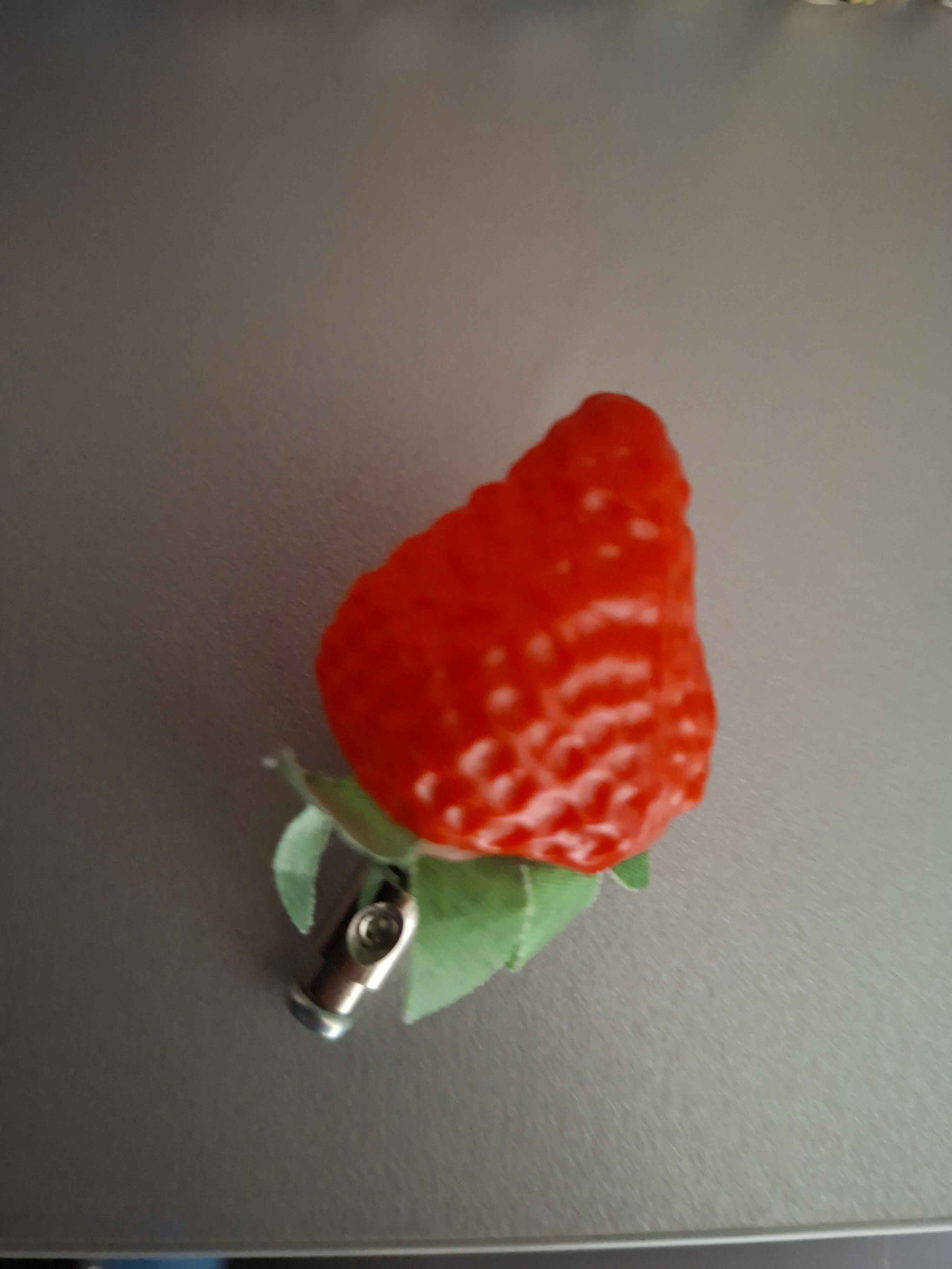Strawberry: (294, 361, 734, 876)
